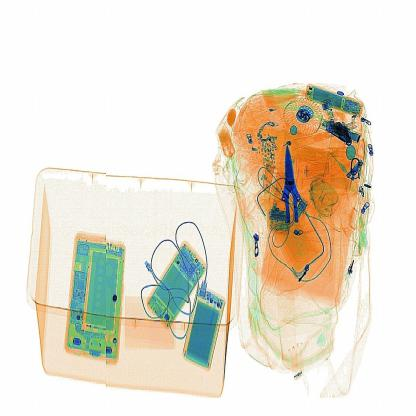gun: (262, 137, 312, 242)
